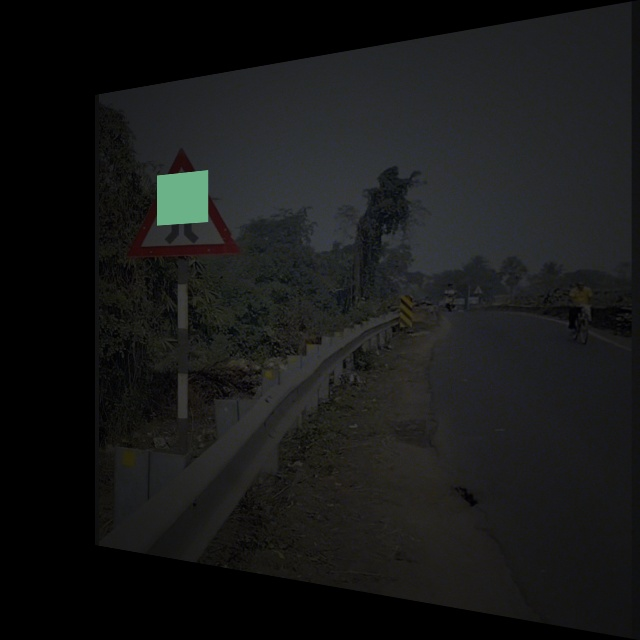Narrow_Bridge: (131, 144, 235, 255)
